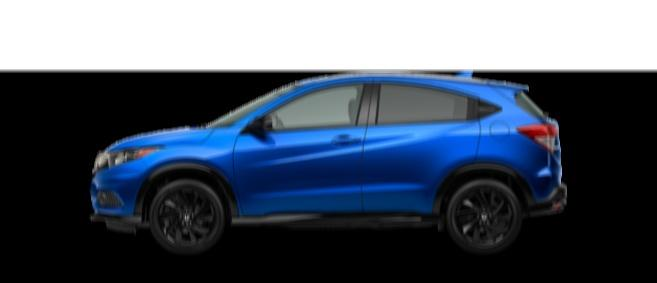Car hood: (105, 118, 214, 146)
Fender - -F-L-: (141, 126, 243, 229)
Fender - -R-L-: (470, 113, 534, 173)
Front bumper: (85, 169, 156, 245)
Headlight - -L-: (90, 141, 169, 177)
Passenger-s door - -F-L-: (233, 72, 365, 220)
Passenger-s door - -R-L-: (366, 73, 482, 218)
Rear bumper: (514, 158, 574, 227)
Rear light - -L-: (511, 118, 560, 156)
Side bumper - -L-: (230, 207, 461, 236)
Side mirror - -L-: (246, 109, 283, 137)
